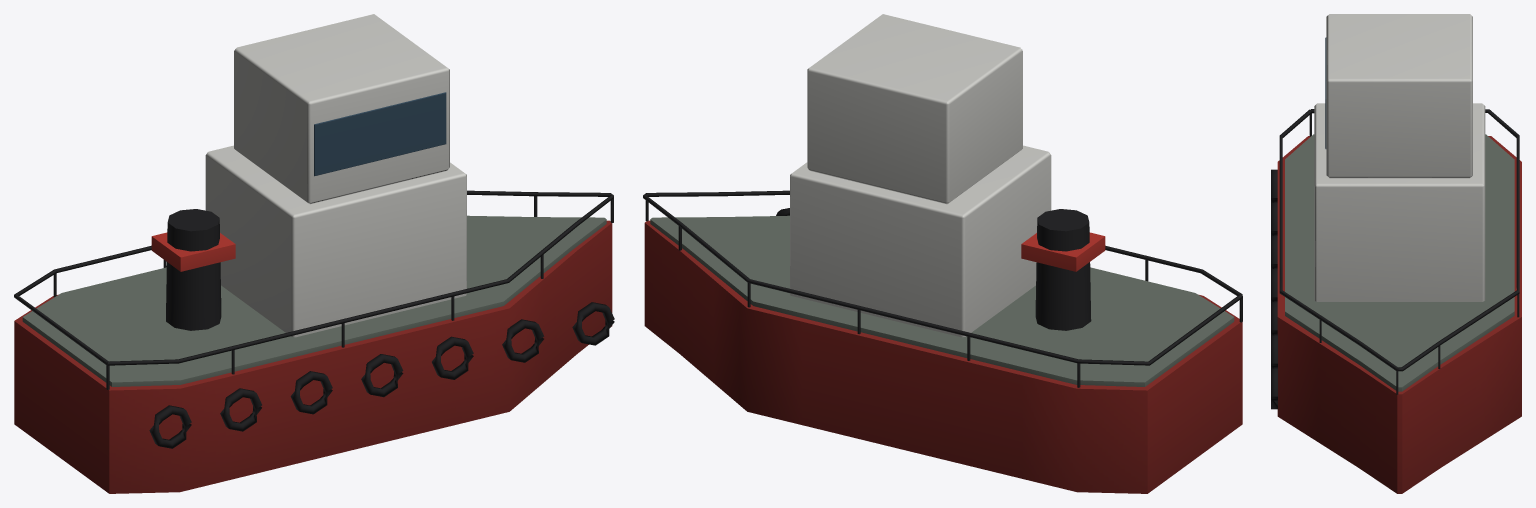
The model's file is TugMIA.fbx.
3 renders of one model, left to right at view 1: azimuth 30°, elevation 25°; view 2: azimuth 150°, elevation 25°; view 3: azimuth 270°, elevation 25°, orthographic. The views are drawn at different scales.
Visible parts, largest first — view 1: TugMIA; view 2: TugMIA; view 3: TugMIA.
Part boxes in pixels (x1,y1,x2,y2): TugMIA: (14,14,614,493); TugMIA: (643,14,1242,493); TugMIA: (1271,14,1521,493).
Bounding box in the file's own units: 10.05 × 5.8 × 4.11.
